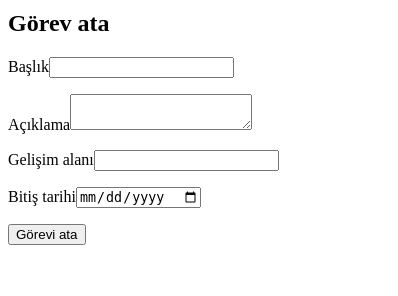
Test: AssignTaskForm › keeps the values and shows an error when the API rejects the task
The width and height of the screenshot is (398, 296).
In the field labelled "Başlık": (141, 67) [49,57,234,78], type "Draw a family picture"
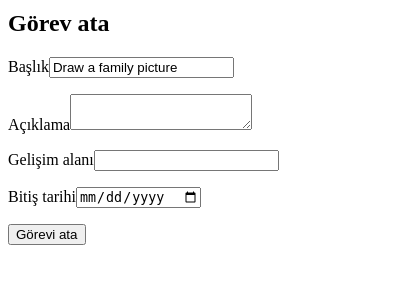
In the text box labelled "Açıklama": (161, 112) [70,94,252,130], type "Use at least three colours."
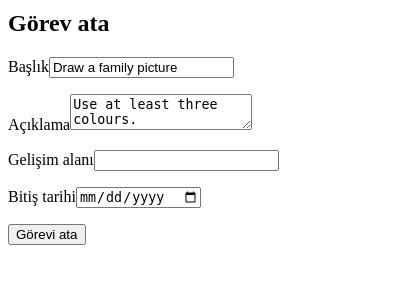
In the field labelled "Gelişim alanı": (186, 160) [94,150,279,171], type "Motor"
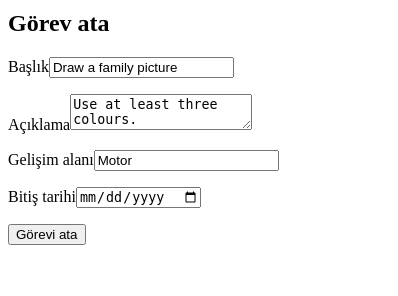
In the date field labelled "Bitiş tarihi": (139, 197) [76,187,201,208], type "2026-11-27"
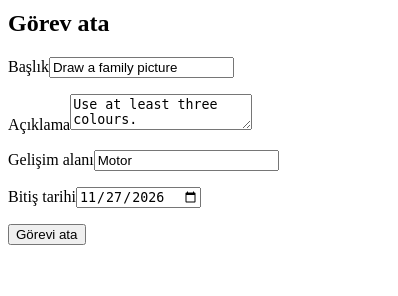
Click the button "Görevi ata": (47, 235) [8,224,86,245]
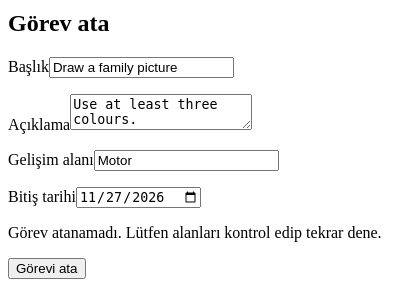
Check: the message reads "Görev atanamadı. Lütfen alanları kontrol edip tekrar dene.", box [8,224,382,241]
